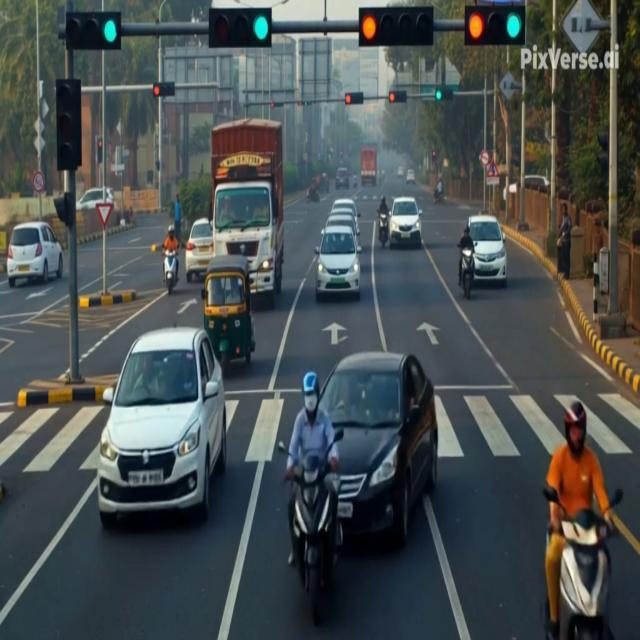car: (97, 327, 226, 528), (319, 352, 437, 546), (7, 223, 63, 287), (315, 226, 361, 301), (468, 215, 506, 287), (185, 218, 213, 281), (390, 197, 421, 247), (321, 212, 359, 236), (76, 188, 115, 211), (329, 207, 359, 234), (331, 199, 360, 226), (525, 175, 549, 188), (336, 168, 349, 190), (406, 170, 415, 184), (397, 167, 403, 177)
scooty: (543, 486, 615, 639), (292, 429, 343, 626), (460, 248, 474, 299), (164, 251, 176, 295), (379, 212, 388, 248), (307, 188, 319, 202), (434, 191, 446, 203), (353, 176, 357, 188)
traffic signal: (359, 6, 433, 47), (209, 8, 271, 48), (465, 5, 525, 46), (56, 80, 81, 171), (65, 12, 121, 50), (54, 192, 75, 228), (597, 131, 609, 173), (153, 82, 175, 97), (345, 92, 363, 105), (435, 88, 453, 101), (389, 91, 406, 103), (96, 137, 102, 164), (270, 102, 283, 108), (431, 149, 436, 164), (298, 101, 311, 106), (340, 150, 344, 158), (297, 102, 302, 106)
truck: (212, 119, 283, 307), (361, 147, 376, 185)
